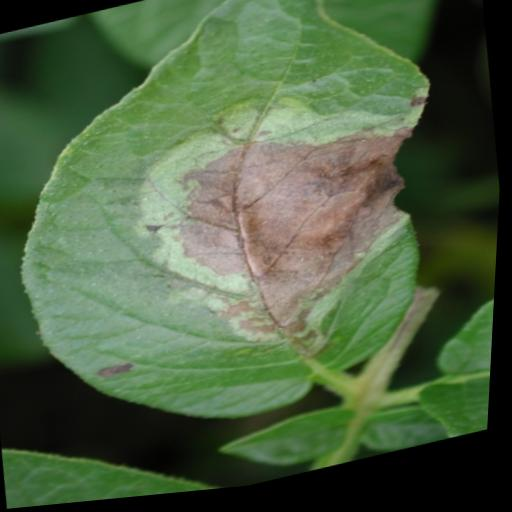Late Blight: (0, 0, 494, 476)
